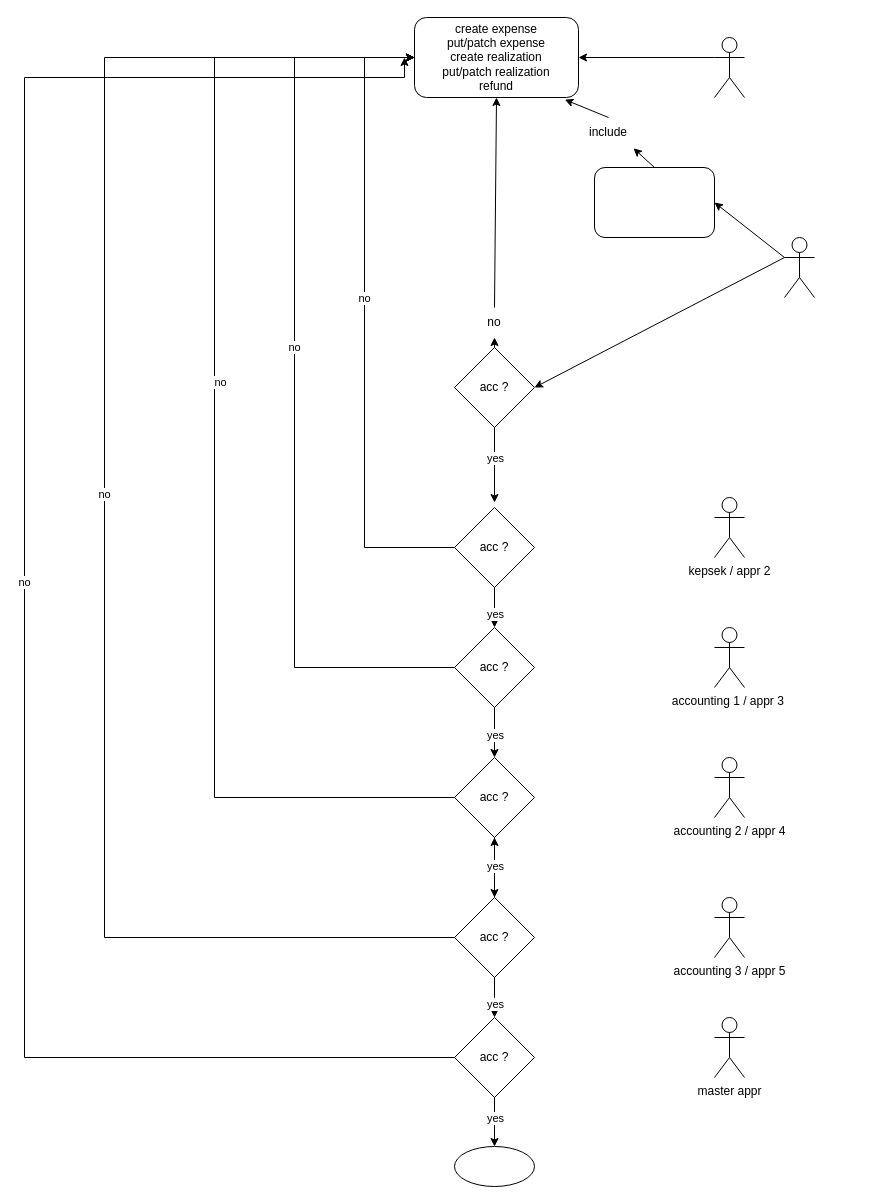
The diagram is 869 pixels wide and 1204 high, and some of its shapes have lost their labels. The centre of each missing label's shape, as x and y in pixels:
admin dan diivisinya: [729,67]
bendahara / appr 1: [799,267]
done: [494,1166]
upload budget: [654,202]
